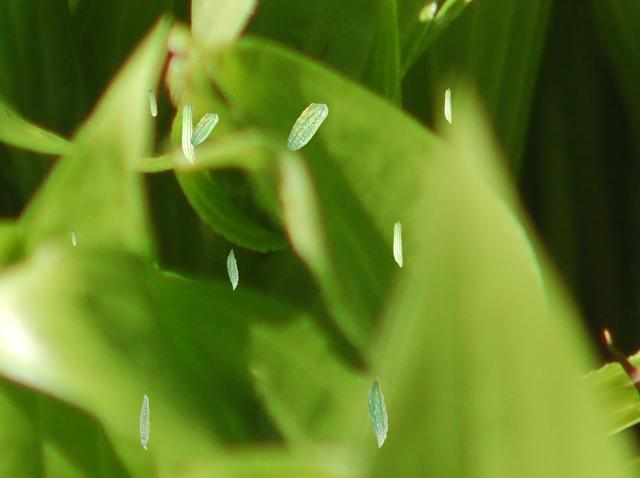ampalaya: (287, 102, 328, 151), (367, 376, 388, 448), (190, 112, 218, 145), (181, 100, 195, 165), (139, 394, 150, 449), (226, 248, 238, 290), (393, 220, 403, 267), (444, 87, 452, 124), (148, 89, 157, 116), (71, 230, 76, 245)
